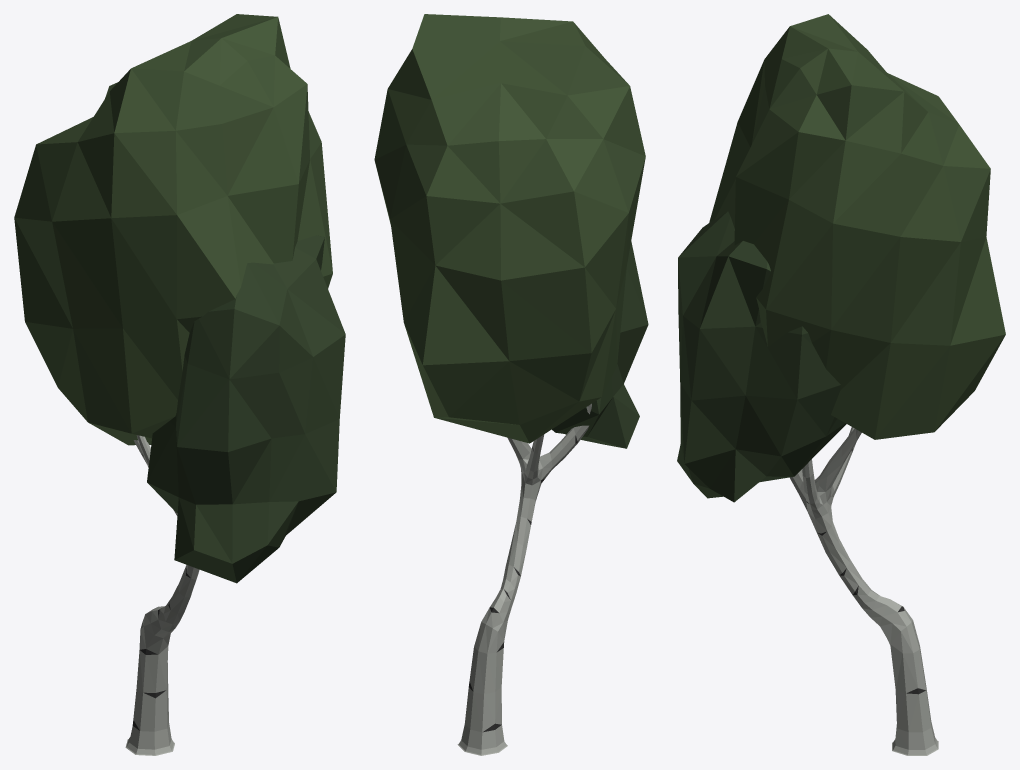
The model's file is BirchTree_2.glb.
The picture shows the model from 3 angles, left to right: view 1: azimuth 30°, elevation 25°; view 2: azimuth 150°, elevation 25°; view 3: azimuth 270°, elevation 25°; orthographic projection. The views are drawn at different scales.
Visible parts, largest first — view 1: BirchTree_2; view 2: BirchTree_2; view 3: BirchTree_2.
Part boxes in pixels (x1,y1,x2,y2): BirchTree_2: (14,14,345,755); BirchTree_2: (374,14,648,755); BirchTree_2: (677,14,1005,755).
Size of the model in its own units: 1.47 by 4.03 by 1.69.
